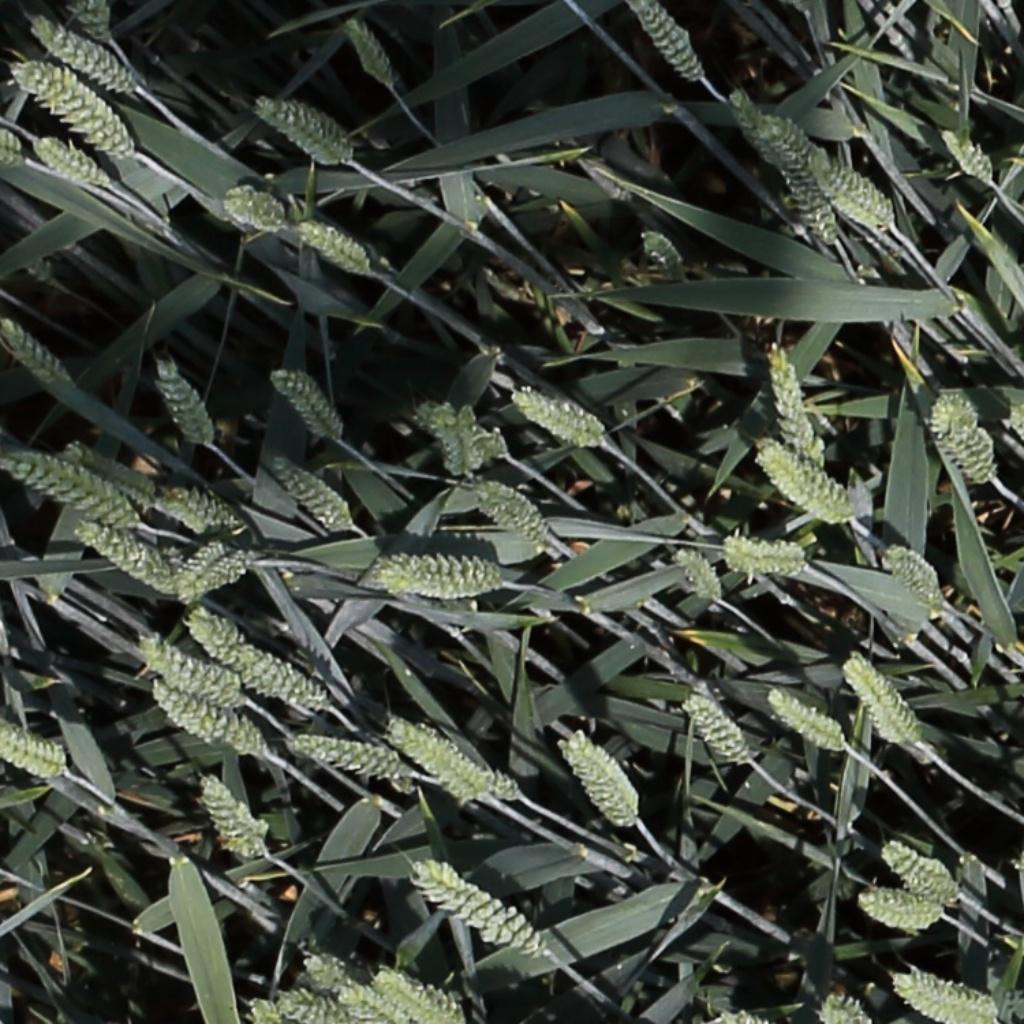0-0: (189, 619, 323, 707), (410, 864, 542, 953), (15, 60, 135, 156), (386, 719, 505, 805), (2, 454, 132, 527), (751, 435, 854, 527), (763, 337, 824, 473), (146, 684, 259, 756), (73, 520, 178, 596), (559, 731, 638, 832), (30, 20, 133, 96), (137, 638, 242, 710), (252, 96, 354, 168), (842, 653, 917, 748), (626, 0, 705, 84), (370, 552, 502, 601), (193, 775, 268, 861), (267, 454, 350, 531), (888, 969, 998, 1024), (930, 393, 995, 484), (285, 735, 408, 783), (267, 367, 341, 445), (811, 161, 894, 228), (65, 446, 152, 509), (683, 686, 756, 761), (371, 967, 466, 1024), (417, 400, 484, 480), (1, 316, 73, 389), (780, 159, 839, 247), (764, 690, 845, 753), (764, 118, 826, 198), (153, 360, 213, 442), (512, 390, 599, 445), (337, 10, 395, 92), (729, 86, 786, 168), (177, 537, 251, 600), (719, 533, 812, 579), (881, 843, 961, 896), (293, 218, 370, 273), (147, 487, 241, 532), (936, 122, 998, 188), (0, 722, 66, 782), (476, 484, 544, 542), (31, 133, 106, 184), (882, 544, 942, 607), (860, 885, 942, 931), (669, 543, 724, 607), (222, 185, 286, 233), (637, 225, 689, 282), (338, 983, 403, 1024), (279, 991, 357, 1024), (301, 953, 354, 1001), (822, 993, 873, 1024), (484, 773, 519, 801)
